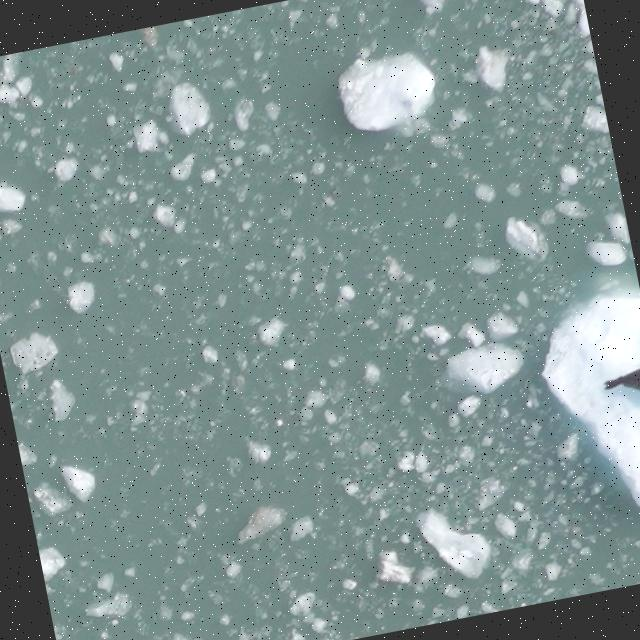seal: (598, 367, 640, 412)
